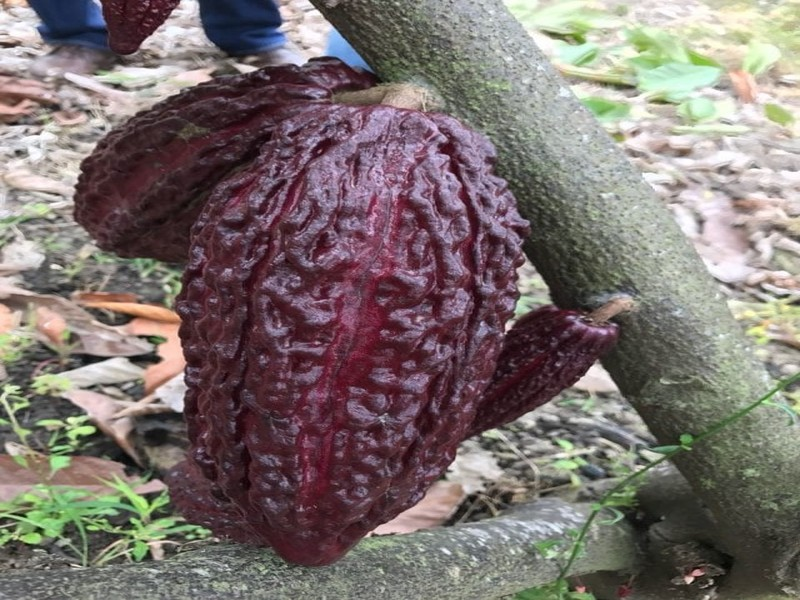Cacaopod: (171, 103, 526, 568)
